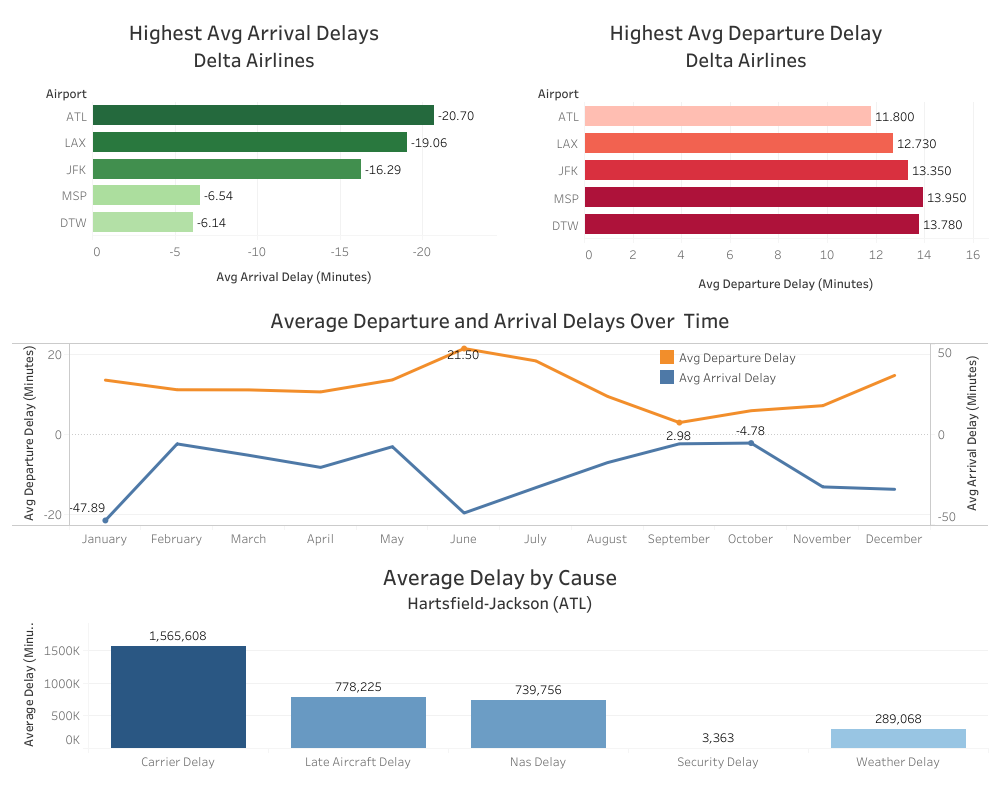

This screenshot's page, from the dashboard's own definition file:
{"tool":"tableau","page":{"name":"Flight Analysis","canvas":[1000,800],"ordinal":0},"visuals":[{"type":"worksheet","title":"Avg Arrival","mark":"Bar","rows":["airport"],"cols":["avg_arrivaldelay"],"box":[8,8,492,288]},{"type":"worksheet","title":"Avg Depart","mark":"Bar","rows":["airport"],"cols":["avg_departdelay"],"box":[500,8,492,288]},{"type":"worksheet","title":"Avg Delays Over Time","mark":"Automatic","rows":["avg_departure_delay"],"cols":["month"],"box":[8,296,984,255.5]},{"type":"legend","title":"Avg Delays Over Time","param":"[federated.19ks09p09oeo8s12e9vnm1nz0vdr].[:Measure Names]","box":[657,347,149,60]},{"type":"worksheet","title":"Delay Cause","mark":"Automatic","box":[8,551.5,984,240.5]}]}

Visuals, with their boxes in screenshot pixels (x1, y1, x2, y2), scaled from the page's 1000x800 canvas onto the 999x799 screenshot:
"Avg Arrival" worksheet (Bar marks): region(8, 8, 500, 296)
"Avg Depart" worksheet (Bar marks): region(500, 8, 991, 296)
"Avg Delays Over Time" worksheet: region(8, 296, 991, 551)
"Avg Delays Over Time" legend: region(656, 347, 805, 406)
"Delay Cause" worksheet: region(8, 551, 991, 791)
